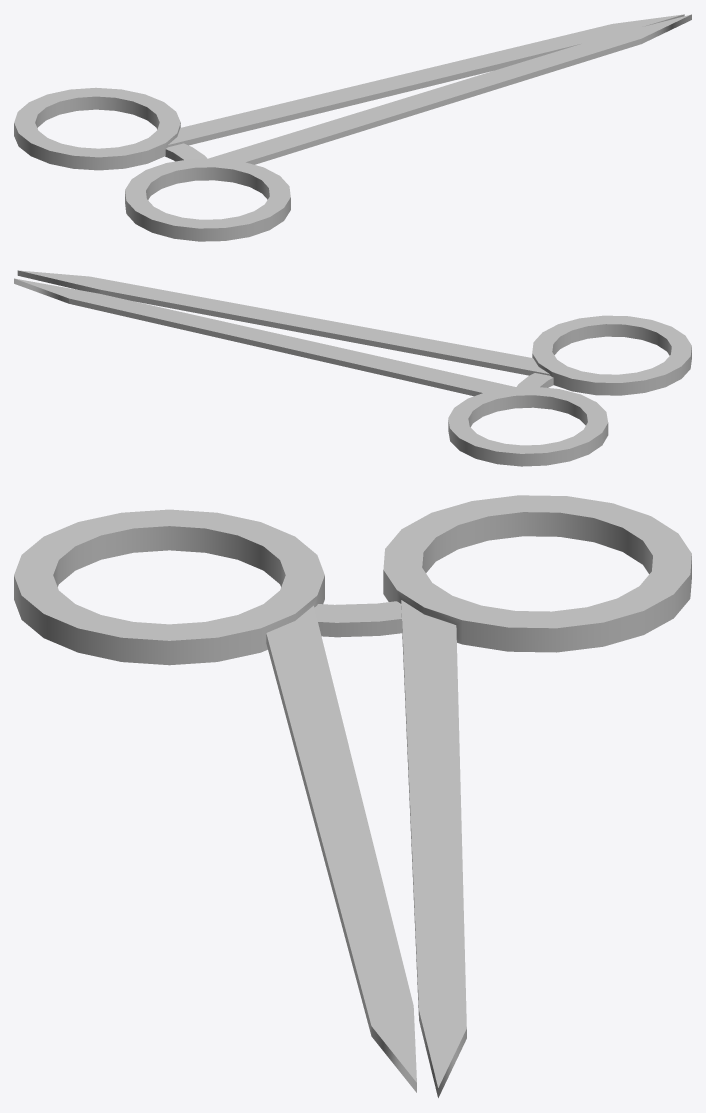
The model's file is surg scissors 2.fbx.
The picture shows the model from 3 angles, top to bottom: view 1: azimuth 30°, elevation 25°; view 2: azimuth 150°, elevation 25°; view 3: azimuth 270°, elevation 25°; orthographic projection. The views are drawn at different scales.
Visible parts, largest first — view 1: pasted__pCylinder119, pasted__pCylinder118, pCube194; view 2: pasted__pCylinder119, pasted__pCylinder118, pCube194; view 3: pasted__pCylinder119, pasted__pCylinder118, pCube194.
Part boxes in pixels (x1,y1,x2,y2): pasted__pCylinder119: [125, 14, 691, 241]; pasted__pCylinder118: [14, 14, 684, 170]; pCube194: [165, 143, 206, 161]; pasted__pCylinder119: [17, 270, 691, 395]; pasted__pCylinder118: [14, 278, 608, 466]; pCube194: [516, 373, 553, 387]; pasted__pCylinder119: [14, 509, 416, 1092]; pasted__pCylinder118: [383, 495, 691, 1097]; pCube194: [314, 601, 402, 637].
Bounding box in the file's own units: 0.5292 × 0.0122 × 0.2629.
1 material, 1 textured.
